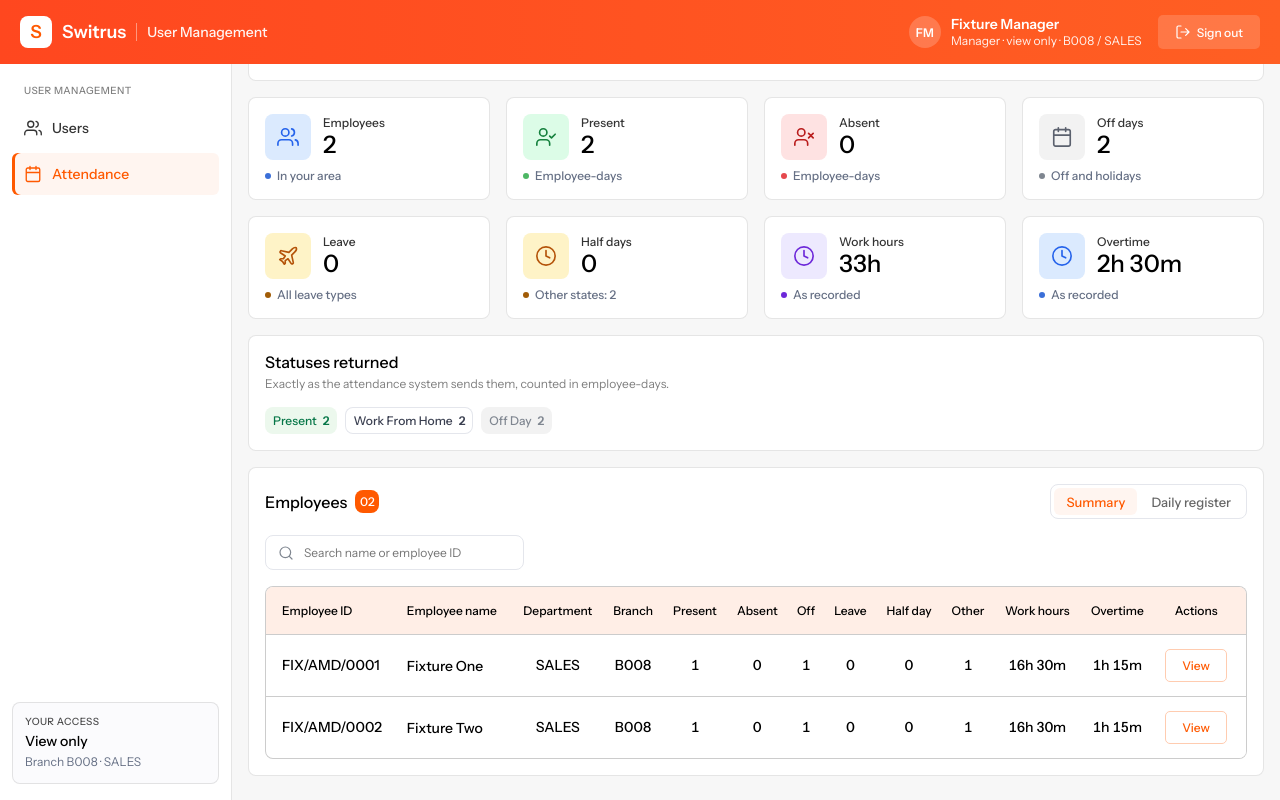
Test: Attendance Muster › opens an employee-wise detail with every day of the range
This screenshot has width=1280, height=800.
(page scrolled)
Expected: the text "Fixture One" is shown, [407,657,483,675]
Click the button with aria-label "View attendance for Fixture One".
click(1196, 665)  # box [1165,648,1227,682]
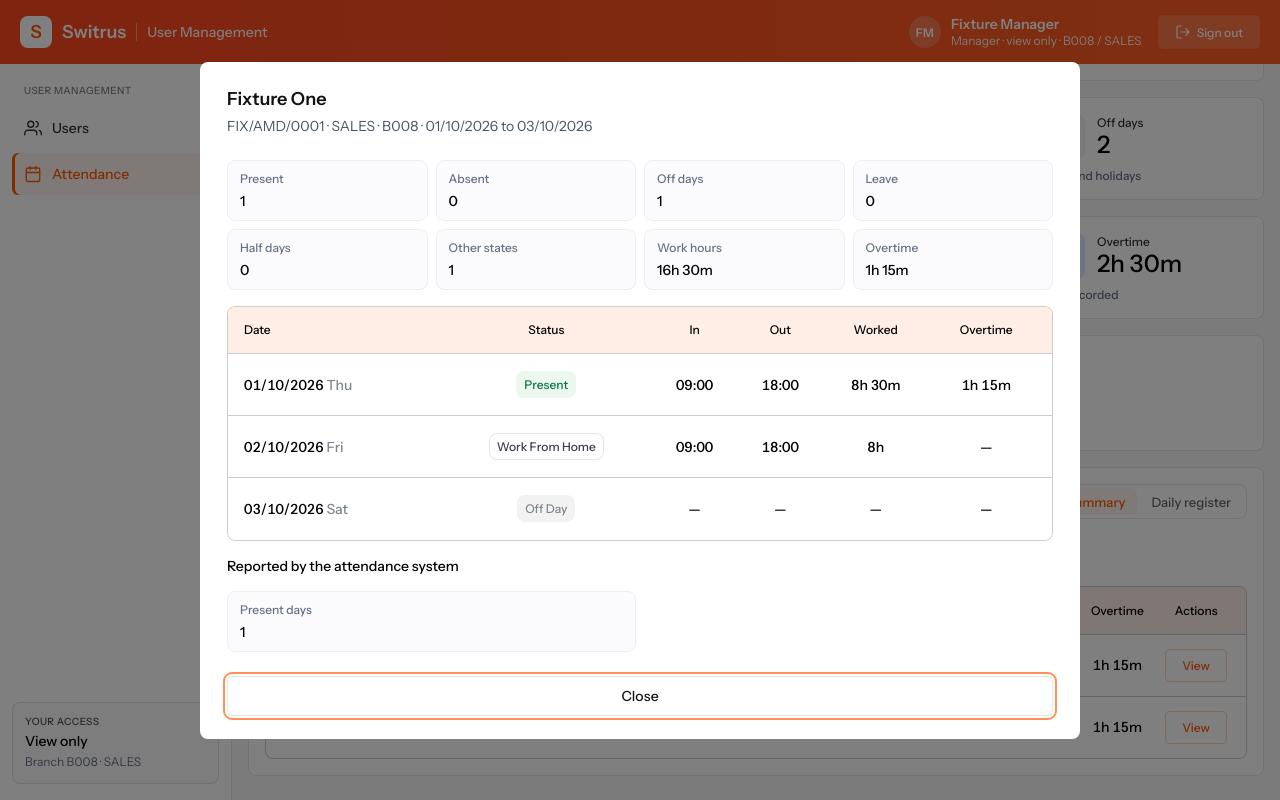
Result: the text "01/10/2026" is shown at [244,376,324,394]
Result: the text "03/10/2026" is shown at [244,500,324,518]
Result: the text "Present days" is shown at [240,602,312,616]
